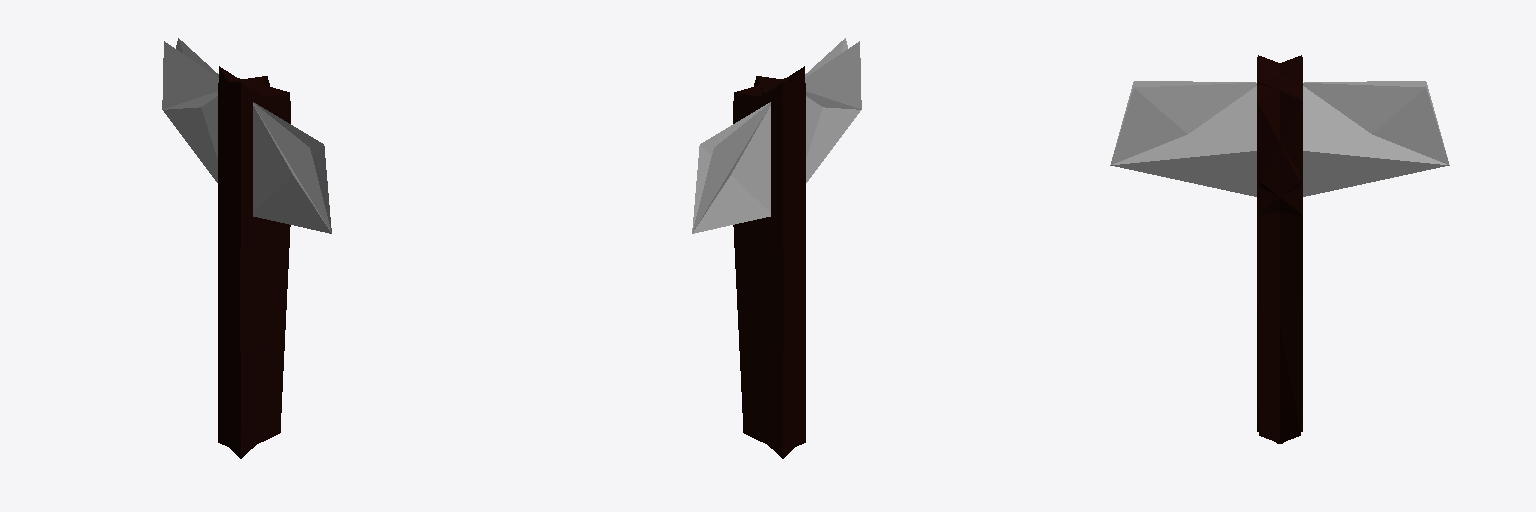
The model's file is axe2.obj.
3 renders of one model, left to right at view 1: azimuth 30°, elevation 25°; view 2: azimuth 150°, elevation 25°; view 3: azimuth 270°, elevation 25°, orthographic.
Parts seen in each view (by area): view 1: Cube; view 2: Cube; view 3: Cube.
Part boxes in pixels (x1,y1,x2,y2): Cube: (162,38,331,458); Cube: (692,38,861,458); Cube: (1110,55,1449,443).
Size of the model in its own units: 2.66 by 17.94 by 14.65.